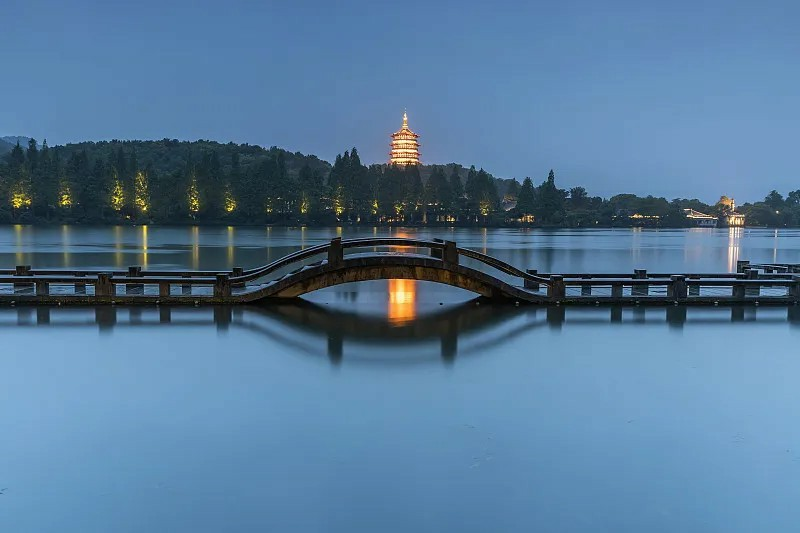Leifeng: (388, 108, 422, 167)
